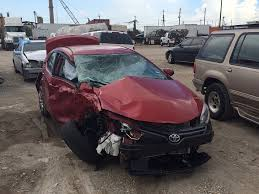acc: (39, 42, 218, 173)
